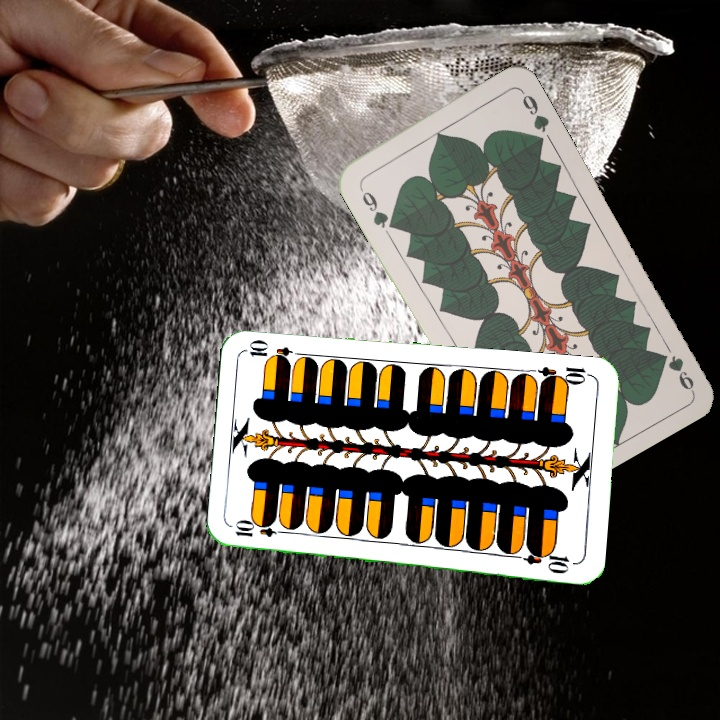E10: (535, 362, 594, 389), (231, 522, 290, 540)
G9: (355, 180, 396, 231), (655, 348, 697, 393)
